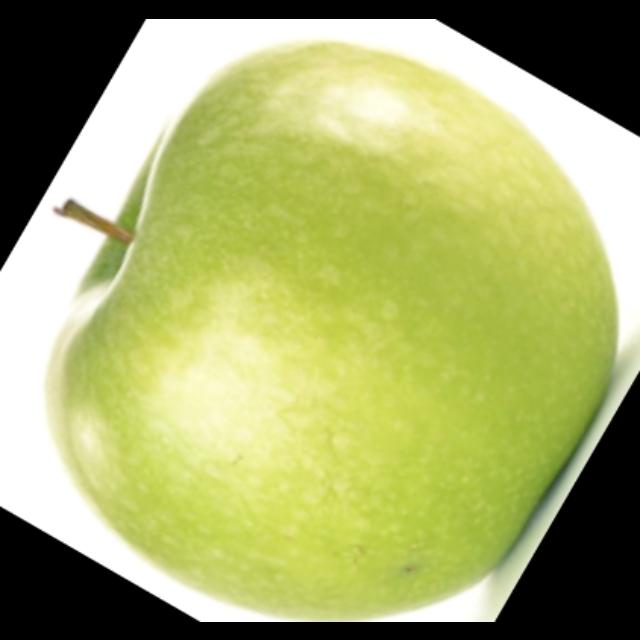Apel Segar: (40, 48, 638, 620)
